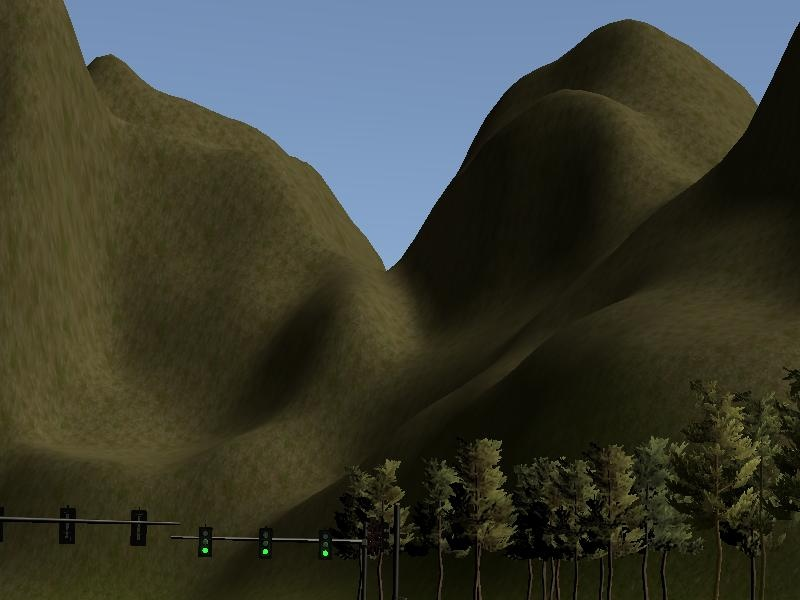green: (196, 523, 215, 557), (258, 526, 274, 562), (317, 528, 333, 560)
